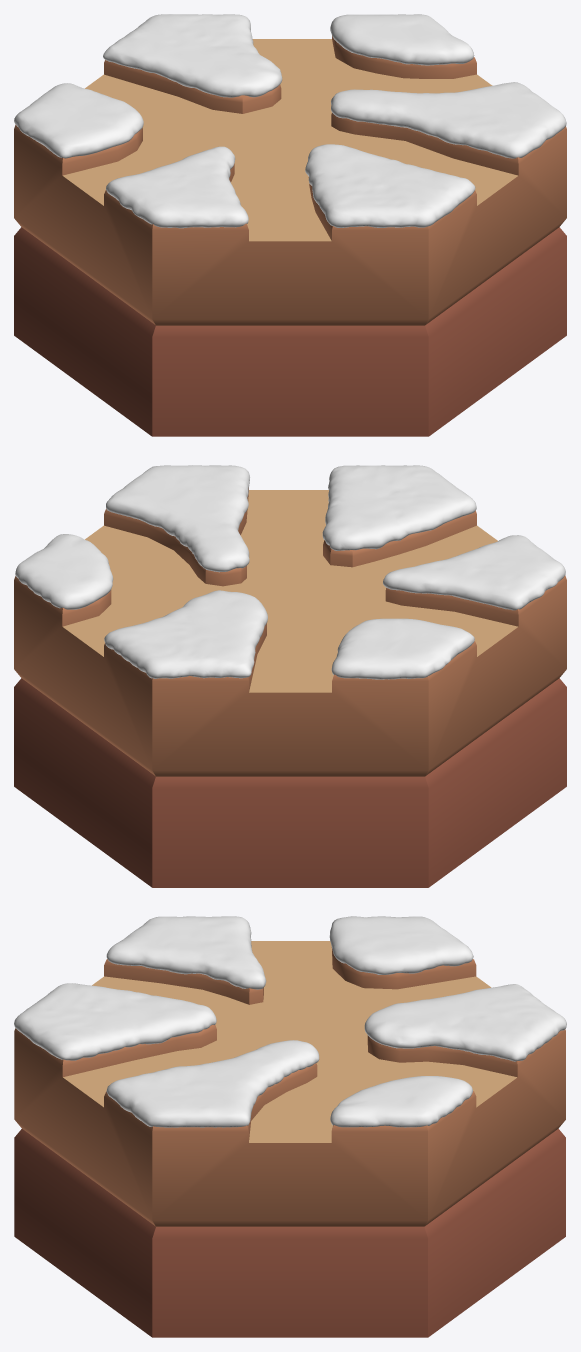
The model's file is hex_rock_roadM_detail.fbx.
3 renders of one model, top to bottom at view 1: azimuth 30°, elevation 25°; view 2: azimuth 150°, elevation 25°; view 3: azimuth 270°, elevation 25°, orthographic.
Visible parts, largest first — view 1: hex_rock_roadM_detail.001, hex_rock_roadM_detail.002, SnowBall.001, hex_rock_roadM_detail; view 2: hex_rock_roadM_detail.001, hex_rock_roadM_detail.002, SnowBall.001, hex_rock_roadM_detail; view 3: hex_rock_roadM_detail.001, hex_rock_roadM_detail.002, SnowBall.001, hex_rock_roadM_detail.
Boxes of the visible parts, left/top/right/bottom form: hex_rock_roadM_detail.001: left=14, top=227, right=566, bottom=436; hex_rock_roadM_detail.002: left=14, top=35, right=566, bottom=325; SnowBall.001: left=14, top=14, right=566, bottom=228; hex_rock_roadM_detail: left=63, top=39, right=517, bottom=241; hex_rock_roadM_detail.001: left=14, top=678, right=566, bottom=887; hex_rock_roadM_detail.002: left=14, top=488, right=566, bottom=776; SnowBall.001: left=15, top=465, right=565, bottom=679; hex_rock_roadM_detail: left=63, top=490, right=517, bottom=692; hex_rock_roadM_detail.001: left=14, top=1129, right=565, bottom=1337; hex_rock_roadM_detail.002: left=14, top=947, right=565, bottom=1226; SnowBall.001: left=14, top=916, right=566, bottom=1127; hex_rock_roadM_detail: left=63, top=941, right=516, bottom=1142.
Bounding box in the file's own units: 202 × 103 × 232.
